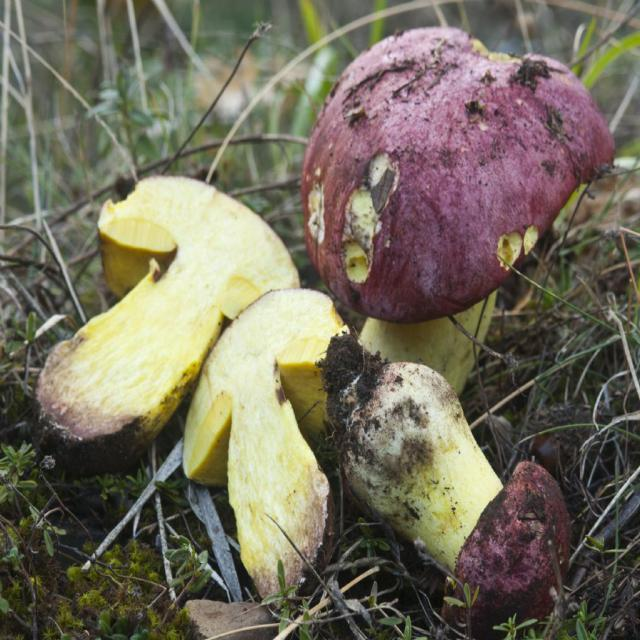Boletus: (303, 28, 612, 395), (44, 174, 301, 438), (185, 288, 359, 603), (348, 361, 569, 609)
